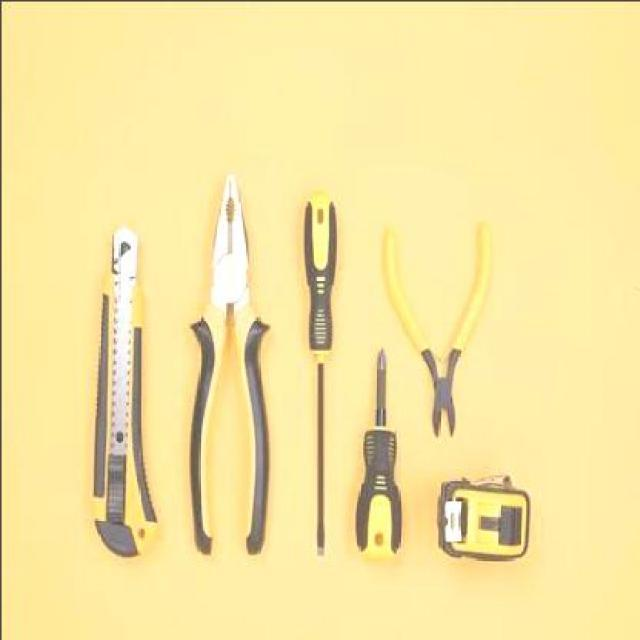pliers: (182, 167, 282, 562)
